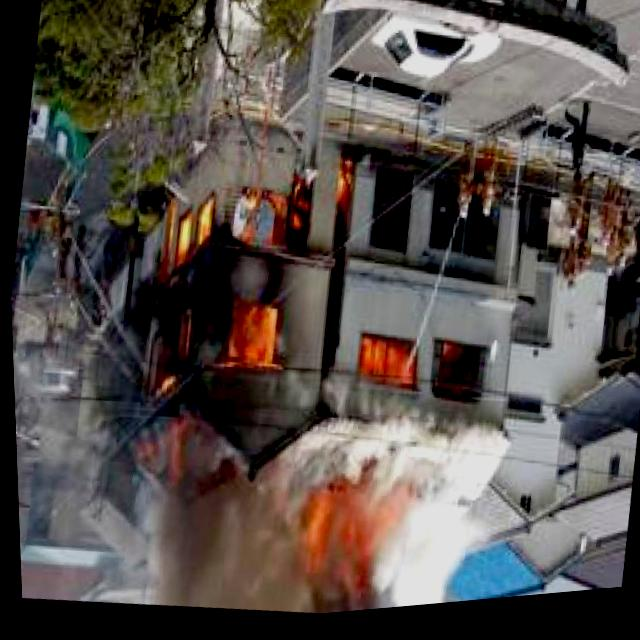helmet: (86, 125, 371, 488), (355, 334, 455, 405)
no_helmet: (133, 387, 513, 632)
